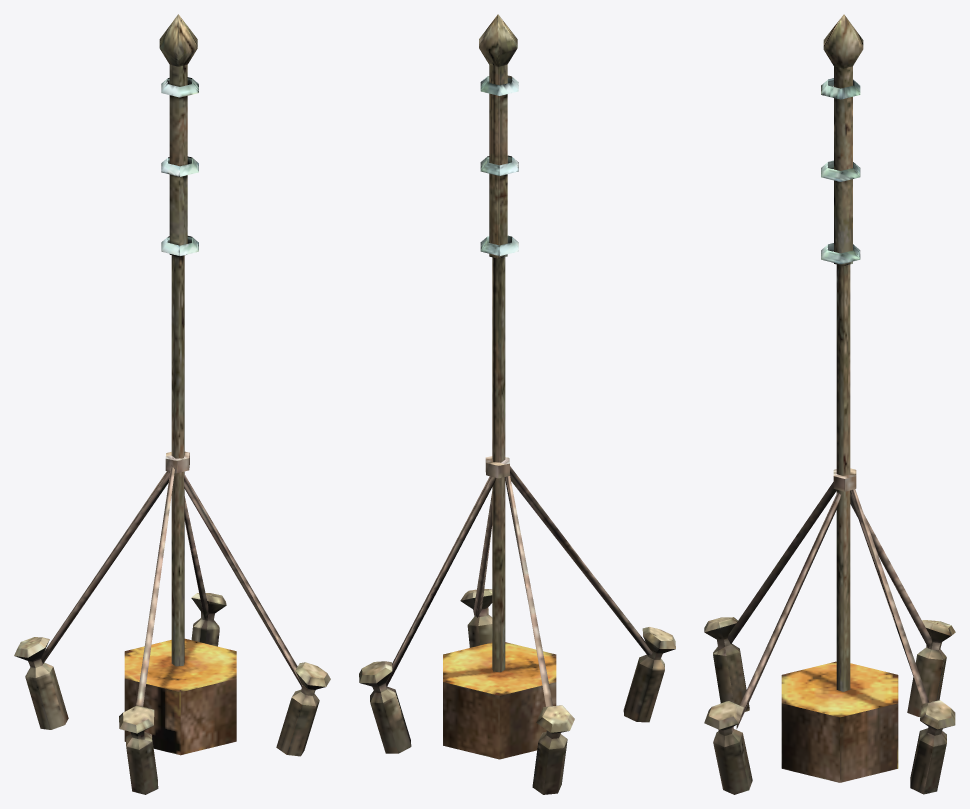
The model's file is building_flagpole_village_centre.glb.
3 views of the same model, side by side, from view 1: azimuth 30°, elevation 25°; view 2: azimuth 150°, elevation 25°; view 3: azimuth 270°, elevation 25° (orthographic). The views are drawn at different scales.
Parts seen in each view (by area): view 1: building_flagpole_village_centre; view 2: building_flagpole_village_centre; view 3: building_flagpole_village_centre.
Part boxes in pixels (left/top/right/bottom): building_flagpole_village_centre: left=14, top=14, right=330, bottom=794; building_flagpole_village_centre: left=359, top=14, right=675, bottom=794; building_flagpole_village_centre: left=704, top=14, right=955, bottom=794.
Bounding box in the file's own units: 2.01 × 6.56 × 2.
2 materials, 2 textured.
